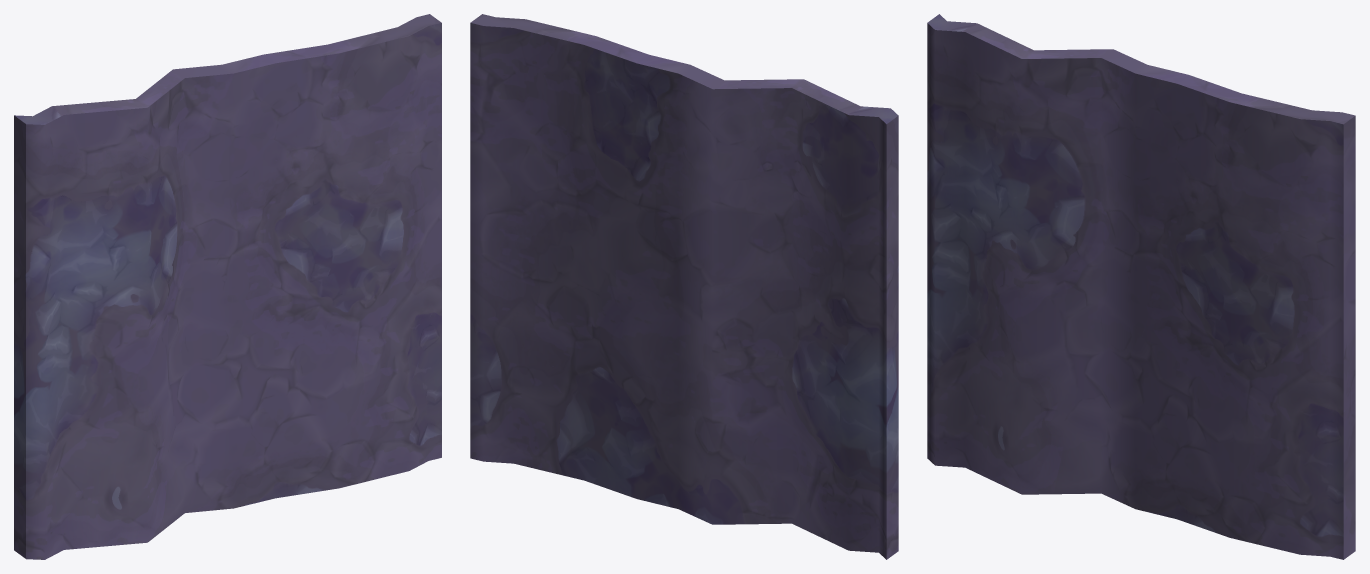
The model's file is wall_textured_rae.fbx.
The picture shows the model from 3 angles, left to right: view 1: azimuth 30°, elevation 25°; view 2: azimuth 150°, elevation 25°; view 3: azimuth 330°, elevation 25°; orthographic projection.
Visible parts, largest first — view 1: ALPHA_WALL; view 2: ALPHA_WALL; view 3: ALPHA_WALL.
Boxes of the visible parts, x1,y1,x2,y2 form: ALPHA_WALL: (14, 14, 441, 559); ALPHA_WALL: (470, 14, 898, 559); ALPHA_WALL: (927, 14, 1355, 559).
Size of the model in its own units: 2 by 2 by 0.2747.
1 material, 1 textured.
